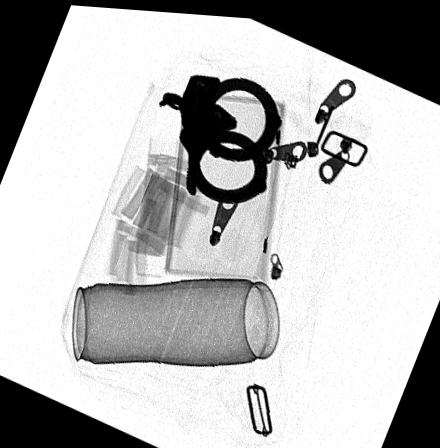HandCuffs: (157, 71, 282, 199)
